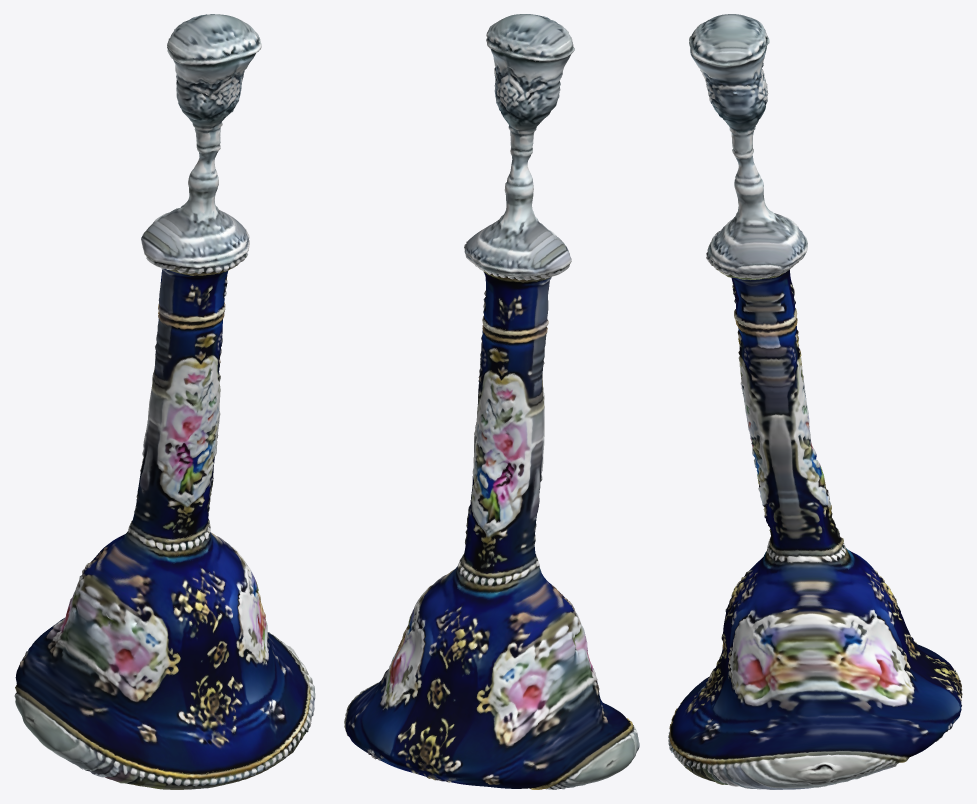
File: kfl-2153.glb
3 renders of one model, left to right at view 1: azimuth 30°, elevation 25°; view 2: azimuth 150°, elevation 25°; view 3: azimuth 270°, elevation 25°, orthographic. The views are drawn at different scales.
Visible parts, largest first — view 1: kfl-2153; view 2: kfl-2153; view 3: kfl-2153.
Part boxes in pixels (x1,y1,x2,y2): kfl-2153: [14, 14, 315, 789]; kfl-2153: [344, 14, 639, 789]; kfl-2153: [668, 14, 962, 789].
Bounding box in the file's own units: 0.3655 × 0.9975 × 0.3598.
1 material, 1 textured.
